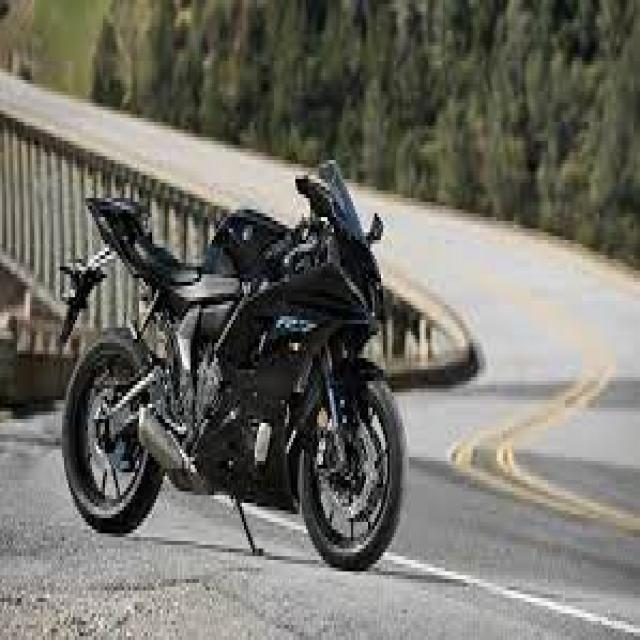Bike: (57, 159, 410, 572)
